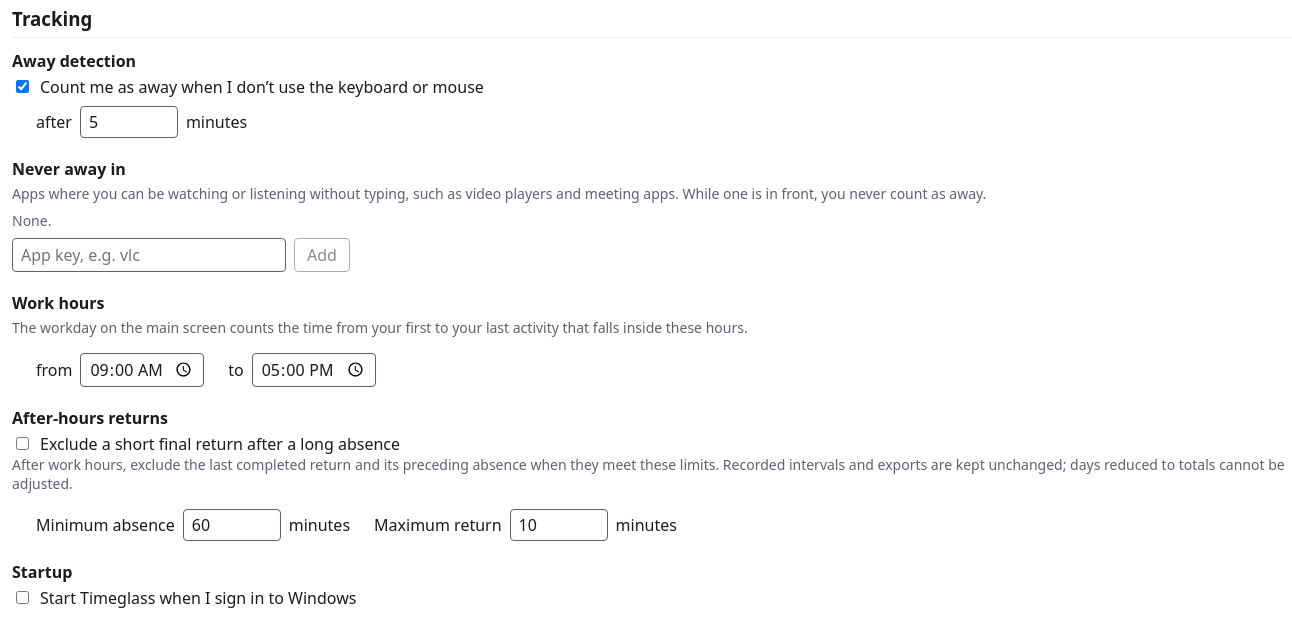
Scenario: SettingsView › turns idle detection and window titles off
The image size is (1292, 641).
Later steps or results of the test are not shown.
Click the checkbox labelled "Count me as away when I don’t use the keyboard or mouse": (22, 86) 16,80 -> 29,93
(page scrolled)
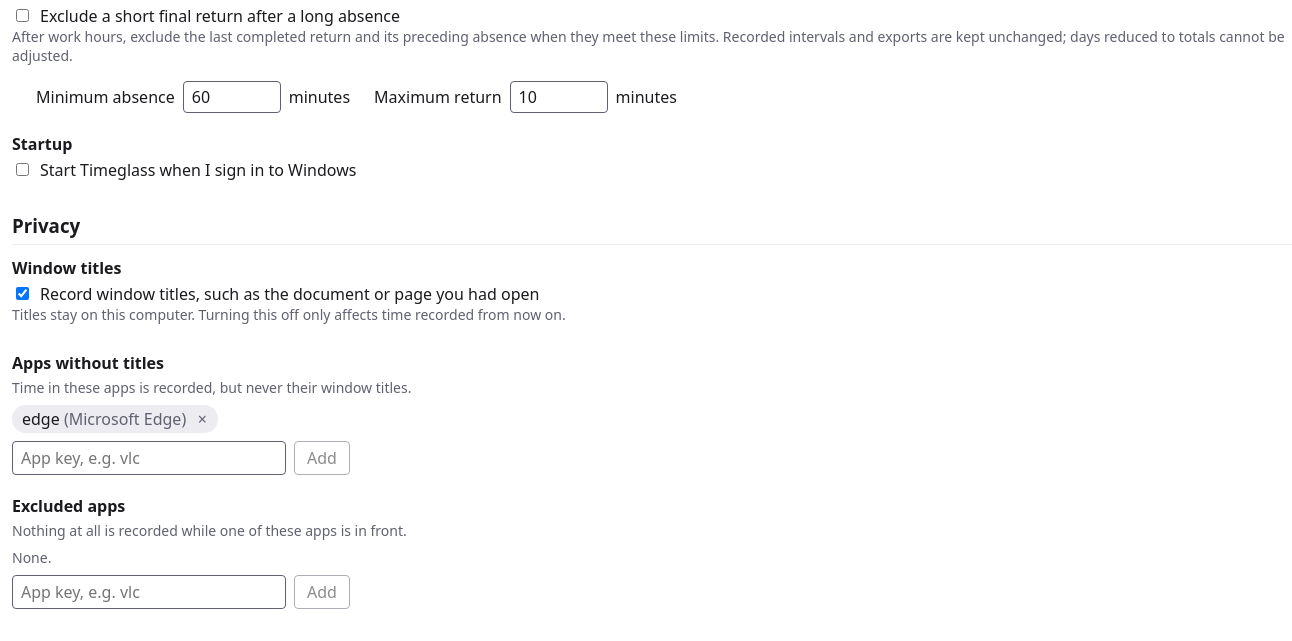
Click the checkbox labelled "Record window titles": (22, 293) 16,287 -> 29,300
(page scrolled)
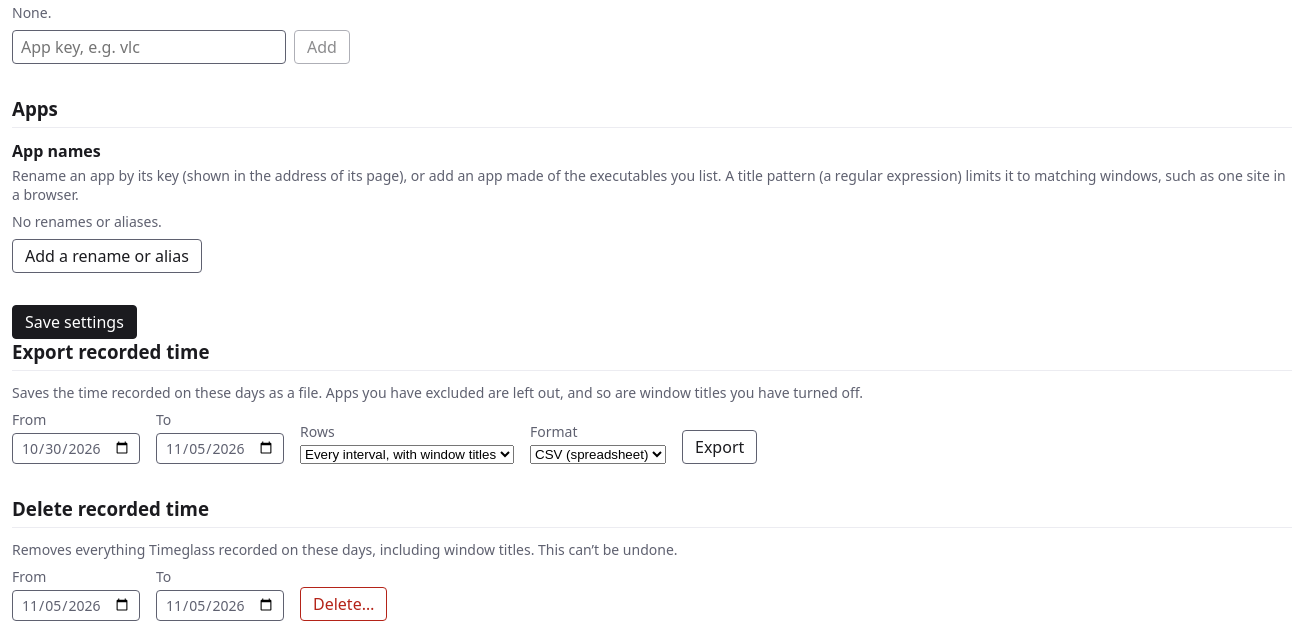
Expected: the number field labelled "after" is not shown
Expected: the text "Apps without titles" is gone
